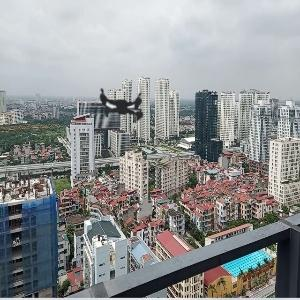drone: (56, 39, 193, 176)
